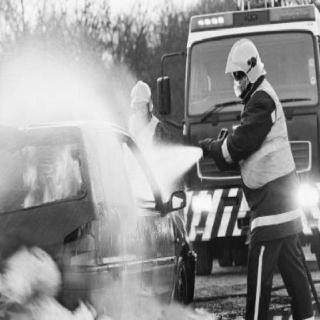Fire: (3, 241, 110, 318)
other: (182, 184, 216, 214)
